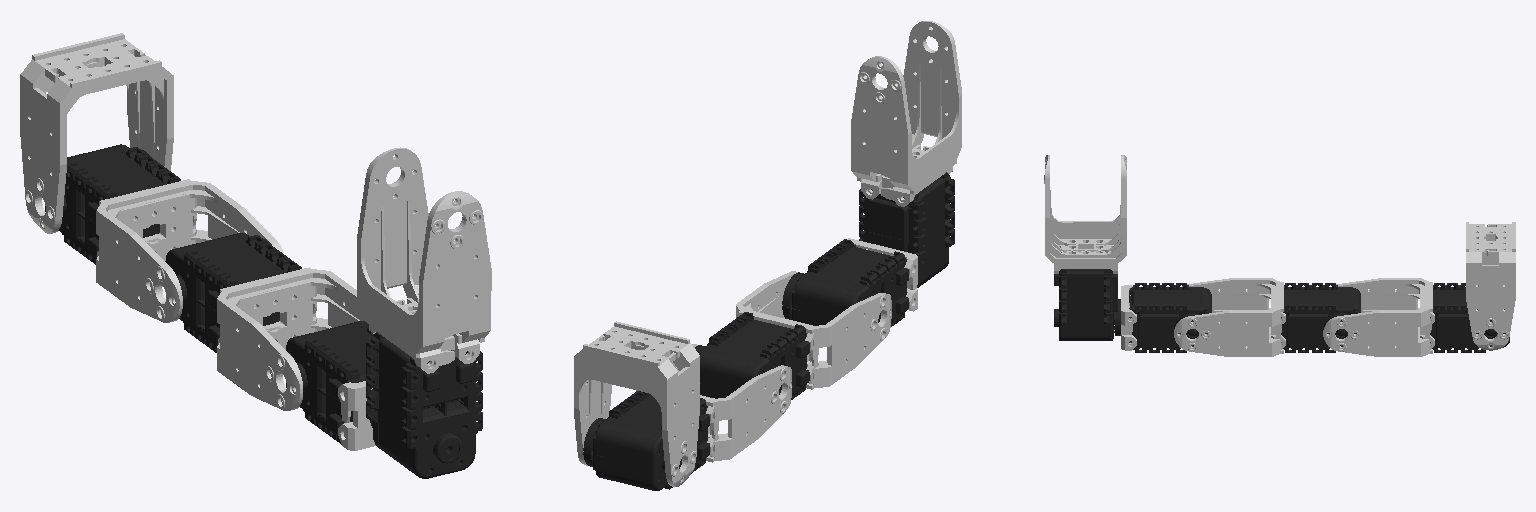
robot.urdf — Test_robot:
<?xml version="1.0"?>
<robot name="Test_robot" xmlns:xacro="http://ros.org/wiki/xacro">

<link name="world"/>

<joint name="fixed" type="fixed">
    <parent link="world"/>
    <child link="arm1"/>
</joint>

<material name="blue">
    <color rgba="0 0 0.8 1"/>
  </material>
  <material name="black">
    <color rgba="0.2 0.2 0.2 1"/>
  </material>
  <material name="white">
    <color rgba="0.85 0.85 0.85 1"/>
  </material>

  <link name="arm1">
    <inertial>
      <mass value="10"/>
      <inertia ixx="0.4" ixy="0.0" ixz="0.0" iyy="0.4" iyz="0.0" izz="0.2"/>
    </inertial>
    <visual>
      <geometry>
        <mesh 
        scale="0.001 0.001 0.001"
        filename="package://aaly_urdf/meshes/arm.stl" />
      </geometry>
      <material name="white"/>
    </visual>
    <collision>
      <geometry>
        <box size="0.04 0.032 0.050"/>
      </geometry>
    </collision>
  </link>

  <link name="motor1">
    <inertial>
      <mass value="10"/>
      <inertia ixx="0.4" ixy="0.0" ixz="0.0" iyy="0.4" iyz="0.0" izz="0.2"/>
    </inertial>
    <visual>
      <geometry>
        <mesh 
        scale="0.001 0.001 0.001"
        filename="package://aaly_urdf/meshes/motor.stl"/>
      </geometry>
      <origin rpy="0 1.57 0" xyz="0 0 0"/>
      <material name="black"/>
    </visual>
    <collision>
      <geometry>
        <box size="0.04 0.032 0.050"/>
      </geometry>
    </collision>
  </link>

  <joint name="j1" type="continuous">
    <parent link="arm1"/>
    <child link="motor1"/>
    <origin xyz="0 0 0"/>
  </joint>

  <link name="plate1">
    <inertial>
      <mass value="10"/>
      <inertia ixx="0.4" ixy="0.0" ixz="0.0" iyy="0.4" iyz="0.0" izz="0.2"/>
    </inertial>
    <visual>
      <geometry>
        <mesh  
        scale="0.001 0.001 0.001"
        filename="package://aaly_urdf/meshes/plate.stl"/>
      </geometry>
      <origin rpy="0 1.57 0" xyz="0 -0.042 0"/>
      <material name="white"/>
    </visual>
    <collision>
      <geometry>
        <box size="0.04 0.032 0.050"/>
      </geometry>
    </collision>
  </link>

  <joint name="j2" type="fixed">
    <parent link="motor1"/>
    <child link="plate1"/>
    <origin xyz="0 0 0"/>
  </joint>

  <link name="arm2">
    <inertial>
      <mass value="10"/>
      <inertia ixx="0.4" ixy="0.0" ixz="0.0" iyy="0.4" iyz="0.0" izz="0.2"/>
    </inertial>
    <visual>
      <geometry>
        <mesh  
        scale="0.001 0.001 0.001"
        filename="package://aaly_urdf/meshes/arm.stl"/>
      </geometry>
      <origin rpy="-1.57 0 0" xyz="0 -0.088 0"/>
      <material name="white"/>
    </visual>
    <collision>
      <geometry>
        <box size="0.04 0.032 0.050"/>
      </geometry>
    </collision>
  </link>

  <joint name="j3" type="fixed">
    <parent link="plate1"/>
    <child link="arm2"/>
    <origin xyz="0 0 0"/>
  </joint>

  <link name="motor2">
    <inertial>
      <mass value="10"/>
      <inertia ixx="0.4" ixy="0.0" ixz="0.0" iyy="0.4" iyz="0.0" izz="0.2"/>
    </inertial>
    <visual>
      <geometry>
        <mesh 
        scale="0.001 0.001 0.001"
         filename="package://aaly_urdf/meshes/motor.stl"/>
      </geometry>
      <origin rpy="0 1.57 0" xyz="0 0 0"/>
      <material name="black"/>
    </visual>
    <collision>
      <geometry>
        <box size="0.04 0.032 0.050"/>
      </geometry>
    </collision>
  </link>

  <joint name="j4" type="continuous">
    <parent link="arm2"/>
    <child link="motor2"/>
    <origin rpy="0 0 0" xyz="0 -0.088 0"/>
  </joint>

  <!--   SECOND SET -->

  <link name="plate2">
    <inertial>
      <mass value="10"/>
      <inertia ixx="0.4" ixy="0.0" ixz="0.0" iyy="0.4" iyz="0.0" izz="0.2"/>
    </inertial>
    <visual>
      <geometry>
        <mesh  
        scale="0.001 0.001 0.001"
        filename="package://aaly_urdf/meshes/plate.stl"/>
      </geometry>
      <origin rpy="0 1.57 0" xyz="0 -0.042 0"/>
      <material name="white"/>
    </visual>
    <collision>
      <geometry>
        <box size="0.04 0.032 0.050"/>
      </geometry>
    </collision>
  </link>

  <joint name="j5" type="fixed">
    <parent link="motor2"/>
    <child link="plate2"/>
    <origin xyz="0 0 0"/>
  </joint>

  <link name="arm3">
    <inertial>
      <mass value="10"/>
      <inertia ixx="0.4" ixy="0.0" ixz="0.0" iyy="0.4" iyz="0.0" izz="0.2"/>
    </inertial>
    <visual>
      <geometry>
        <mesh  
        scale="0.001 0.001 0.001"
        filename="package://aaly_urdf/meshes/arm.stl"/>
      </geometry>
      <origin rpy="-1.57 0 0" xyz="0 -0.088 0"/>
      <material name="white"/>
    </visual>
    <collision>
      <geometry>
        <box size="0.04 0.032 0.050"/>
      </geometry>
    </collision>
  </link>

  <joint name="j6" type="fixed">
    <parent link="plate2"/>
    <child link="arm3"/>
    <origin xyz="0 0 0"/>
  </joint>

  <link name="motor3">
    <inertial>
      <mass value="10"/>
      <inertia ixx="0.4" ixy="0.0" ixz="0.0" iyy="0.4" iyz="0.0" izz="0.2"/>
    </inertial>
    <visual>
      <geometry>
        <mesh 
        scale="0.001 0.001 0.001"
         filename="package://aaly_urdf/meshes/motor.stl"/>
      </geometry>
      <origin rpy="0 1.57 0" xyz="0 0 0"/>
      <material name="black"/>
    </visual>
    <collision>
      <geometry>
        <box size="0.04 0.032 0.050"/>
      </geometry>
    </collision>
  </link>

  <joint name="j7" type="continuous">
    <parent link="arm3"/>
    <child link="motor3"/>
    <origin rpy="0 0 0" xyz="0 -0.088 0"/>
  </joint>

  <!--- Third set -->

  <link name="plate3">
    <inertial>
      <mass value="10"/>
      <inertia ixx="0.4" ixy="0.0" ixz="0.0" iyy="0.4" iyz="0.0" izz="0.2"/>
    </inertial>
    <visual>
      <geometry>
        <mesh  
        scale="0.001 0.001 0.001"
        filename="package://aaly_urdf/meshes/plate.stl"/>
      </geometry>
      <origin rpy="0 1.57 0" xyz="0 -0.042 0"/>
      <material name="white"/>
    </visual>
    <collision>
      <geometry>
        <box size="0.04 0.032 0.050"/>
      </geometry>
    </collision>

  </link>

  <joint name="j8" type="fixed">
    <parent link="motor3"/>
    <child link="plate3"/>
    <origin xyz="0 0 0"/>
  </joint>

  <link name="motor4">
    <inertial>
      <mass value="10"/>
      <inertia ixx="0.4" ixy="0.0" ixz="0.0" iyy="0.4" iyz="0.0" izz="0.2"/>
    </inertial>
    <visual>
      <geometry>
        <mesh 
        scale="0.001 0.001 0.001"
         filename="package://aaly_urdf/meshes/motor.stl"/>
      </geometry>
      <origin rpy="-1.57 0 0" xyz="0 0 0"/>
      <material name="black"/>
    </visual>
    <collision>
      <geometry>
        <box size="0.04 0.032 0.050"/>
      </geometry>
    </collision>
  </link>

  <joint name="j9" type="continuous">
    <parent link="plate3"/>
    <child link="motor4"/>
    <axis xyz="0 1 0"/>
    <origin rpy="0 0 0" xyz="0 -0.063 0"/>
  </joint>

  <link name="plate4">
    <inertial>
      <mass value="10"/>
      <inertia ixx="0.4" ixy="0.0" ixz="0.0" iyy="0.4" iyz="0.0" izz="0.2"/>
    </inertial>
    <visual>
      <geometry>
        <mesh  
        scale="0.001 0.001 0.001"
        filename="package://aaly_urdf/meshes/plate.stl"/>
      </geometry>
      <origin rpy="-1.57 0 0" xyz="0 0 0.042"/>
      <material name="white"/>
    </visual>
    <collision>
      <geometry>
        <box size="0.04 0.032 0.050"/>
      </geometry>
    </collision>

  </link>

  <joint name="j10" type="fixed">
    <parent link="motor4"/>
    <child link="plate4"/>
    <origin xyz="0 0 0"/>
  </joint>

  <link name="arm4">
    <inertial>
      <mass value="10"/>
      <inertia ixx="0.4" ixy="0.0" ixz="0.0" iyy="0.4" iyz="0.0" izz="0.2"/>
    </inertial>
    <visual>
      <geometry>
        <mesh  
        scale="0.001 0.001 0.001"
        filename="package://aaly_urdf/meshes/arm.stl"/>
      </geometry>
      <origin rpy="0 3.14 1.57" xyz="0 0 0.094"/>
      <material name="white"/>
    </visual>
    <collision>
      <geometry>
        <box size="0.04 0.032 0.050"/>
      </geometry>
    </collision>
  </link>

  <joint name="j11" type="fixed">
    <parent link="plate4"/>
    <child link="arm4"/>
    <origin xyz="0 0 0"/>
  </joint>


  <!-- Gazebo plugin for ROS Control -->

  <gazebo>
    <plugin name="gazebo_ros_control" filename="libgazebo_ros_control.so">
      <robotNamespace>
      </robotNamespace>
    </plugin>
  </gazebo>


  <transmission name="tran2">
    <type>transmission_interface/SimpleTransmission</type>
    <joint name="j9">
      <hardwareInterface>hardware_interface/EffortJointInterface</hardwareInterface>
    </joint>
    <actuator name="motor4">
      <hardwareInterface>hardware_interface/EffortJointInterface</hardwareInterface>
      <mechanicalReduction>1</mechanicalReduction>
    </actuator>
  </transmission>

</robot>

--- Render facts (derived) ---
The picture shows the robot from 3 angles, left to right: view 1: azimuth 30°, elevation 25°; view 2: azimuth 150°, elevation 25°; view 3: azimuth 270°, elevation 25°; orthographic projection.
Model Test_robot with 13 links and 12 joints (4 continuous, 8 fixed), rooted at world, posed every joint at zero.
Visible links, largest first — view 1: arm4, arm1, motor4, arm2, arm3, motor2, motor1, motor3, plate1, plate2, plate3, plate4; view 2: arm4, arm1, motor3, motor1, motor2, arm3, motor4, arm2, plate3, plate4; view 3: arm3, arm2, arm1, motor4, arm4, motor3, motor2, motor1, plate3.
Boxes of the visible links, x1,y1,x2,y2 form: arm4: (357, 147, 491, 357); arm1: (20, 33, 173, 233); motor4: (366, 332, 482, 478); arm2: (96, 179, 283, 322); arm3: (217, 267, 363, 410); motor2: (165, 233, 301, 352); motor1: (45, 144, 180, 264); motor3: (286, 321, 373, 444); plate1: (97, 194, 196, 260); plate2: (218, 282, 316, 349); plate3: (338, 381, 375, 450); plate4: (369, 325, 479, 373); arm4: (851, 21, 961, 194); arm1: (574, 321, 699, 486); motor3: (782, 239, 908, 326); motor1: (583, 391, 709, 490); motor2: (695, 312, 809, 399); arm3: (736, 271, 891, 389); motor4: (859, 172, 954, 287); arm2: (636, 344, 791, 462); plate3: (839, 238, 917, 311); plate4: (861, 167, 952, 206); arm3: (1174, 278, 1283, 356); arm2: (1323, 278, 1432, 356); arm1: (1466, 222, 1515, 350); motor4: (1054, 269, 1120, 340); arm4: (1044, 155, 1126, 265); motor3: (1129, 283, 1211, 352); motor2: (1281, 283, 1360, 352); motor1: (1430, 283, 1509, 352); plate3: (1121, 285, 1136, 350).
Size in the robot's own frame: 0.0488 by 0.2779 by 0.121 metres.
12 mesh visuals loaded from 3 distinct referenced files (3 binary STL).
